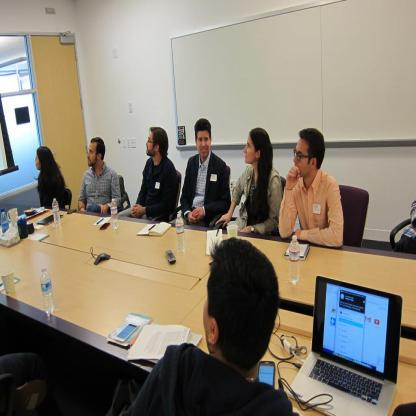board: (293, 281, 402, 408), (41, 268, 55, 316), (289, 234, 300, 286), (176, 213, 186, 255), (36, 214, 63, 228), (110, 198, 119, 232), (52, 199, 60, 227), (1, 208, 9, 234)
